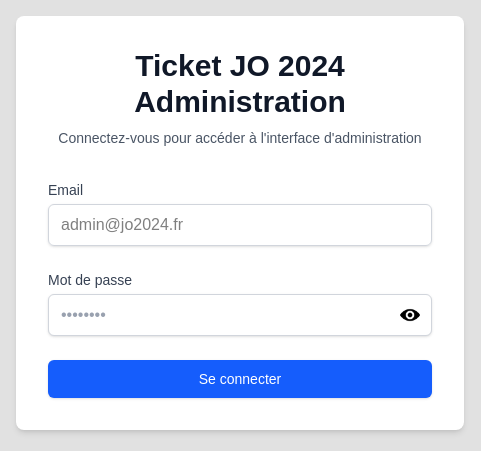
Test: LoginAdminForm › should handle unknown error during login
Type "admin@test.com" into the field labelled "Email" at {"x": 240, "y": 225}, box [48,204,432,246]
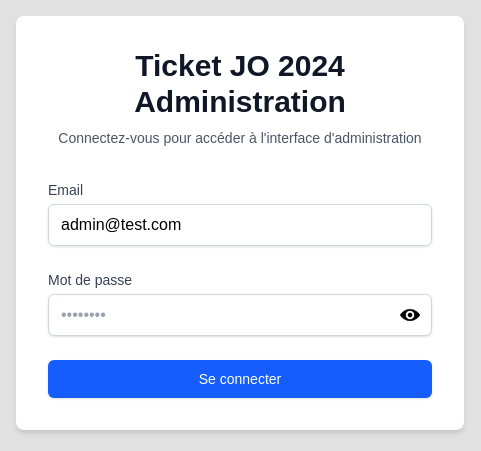
Type "password" into the password field labelled "Mot de passe" at {"x": 240, "y": 315}, box [48,294,432,336]
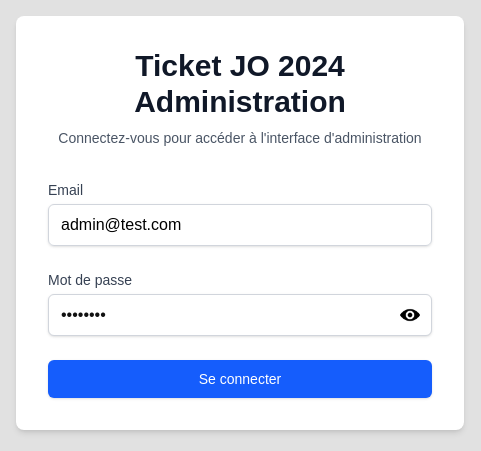
Click the button "Se connecter" at {"x": 240, "y": 379}, box [48,360,432,398]
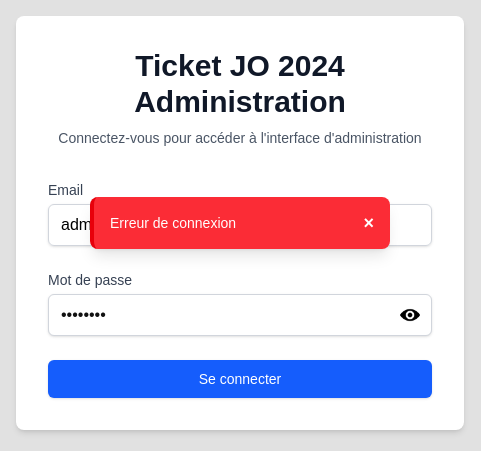
Check: the text "Erreur de connexion" is shown, box [110,213,236,233]
